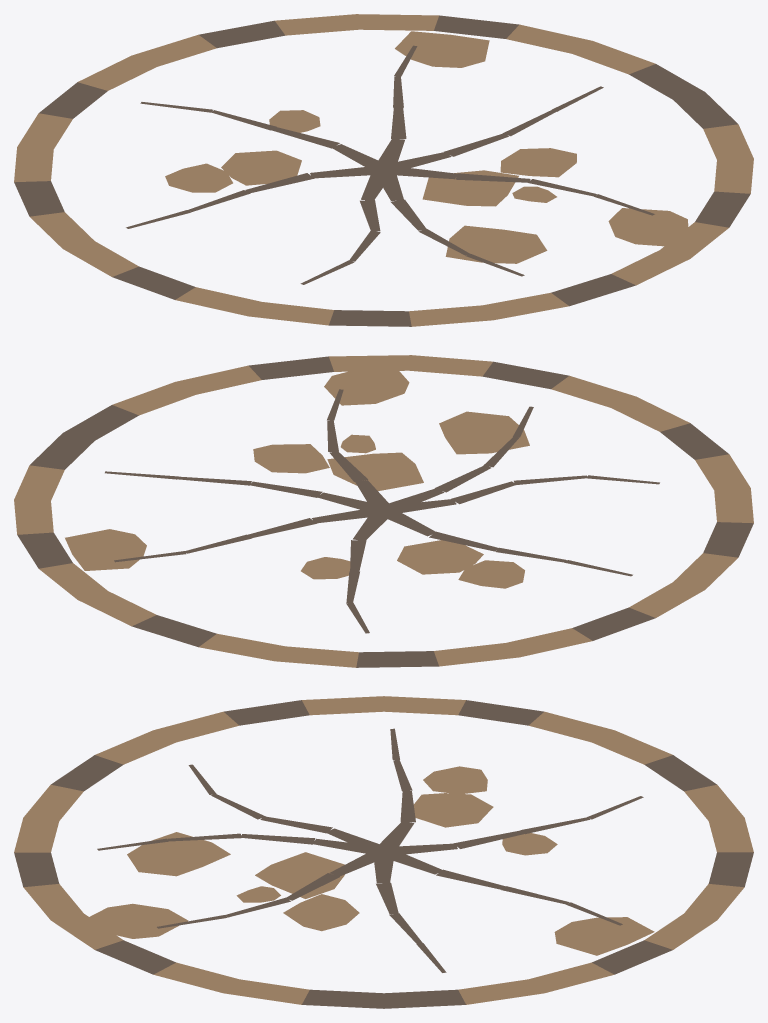
The model's file is arena_floor.glb.
3 views of the same model, one above another, from view 1: azimuth 30°, elevation 25°; view 2: azimuth 150°, elevation 25°; view 3: azimuth 270°, elevation 25° (orthographic).
Visible parts, largest first — view 1: arena_floor; view 2: arena_floor; view 3: arena_floor.
Part boxes in pixels (<box>): arena_floor: <box>14,14,753,326</box>; arena_floor: <box>14,355,753,667</box>; arena_floor: <box>14,696,753,1008</box>.
Size of the model in its own units: 2 by 0.002 by 2.
